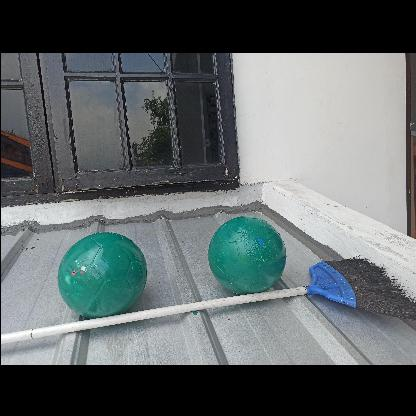green_ball: (57, 228, 145, 316), (205, 212, 283, 290)
